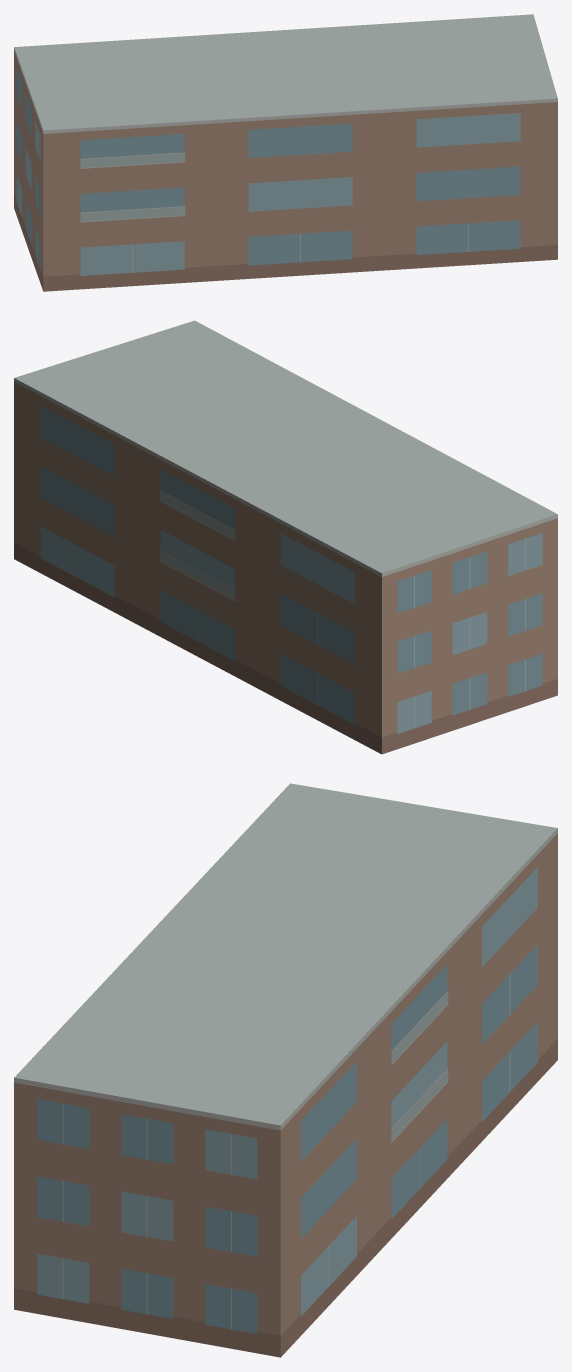
The model's file is survey-upis-32744622.glb.
3 renders of one model, top to bottom at view 1: azimuth 30°, elevation 25°; view 2: azimuth 150°, elevation 25°; view 3: azimuth 270°, elevation 25°, orthographic. The views are drawn at different scales.
Parts seen in each view (by area): view 1: survey-upis-32744622.tmp; view 2: survey-upis-32744622.tmp; view 3: survey-upis-32744622.tmp.
Part boxes in pixels (x1=…): survey-upis-32744622.tmp: x1=14, y1=14, x2=557, y2=291; survey-upis-32744622.tmp: x1=14, y1=320, x2=557, y2=754; survey-upis-32744622.tmp: x1=14, y1=783, x2=557, y2=1357.
Bounding box in the file's own units: 36.39 × 11.5 × 24.44.
